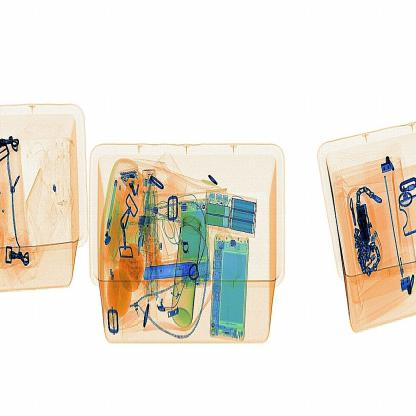pliers: (140, 261, 200, 285)
